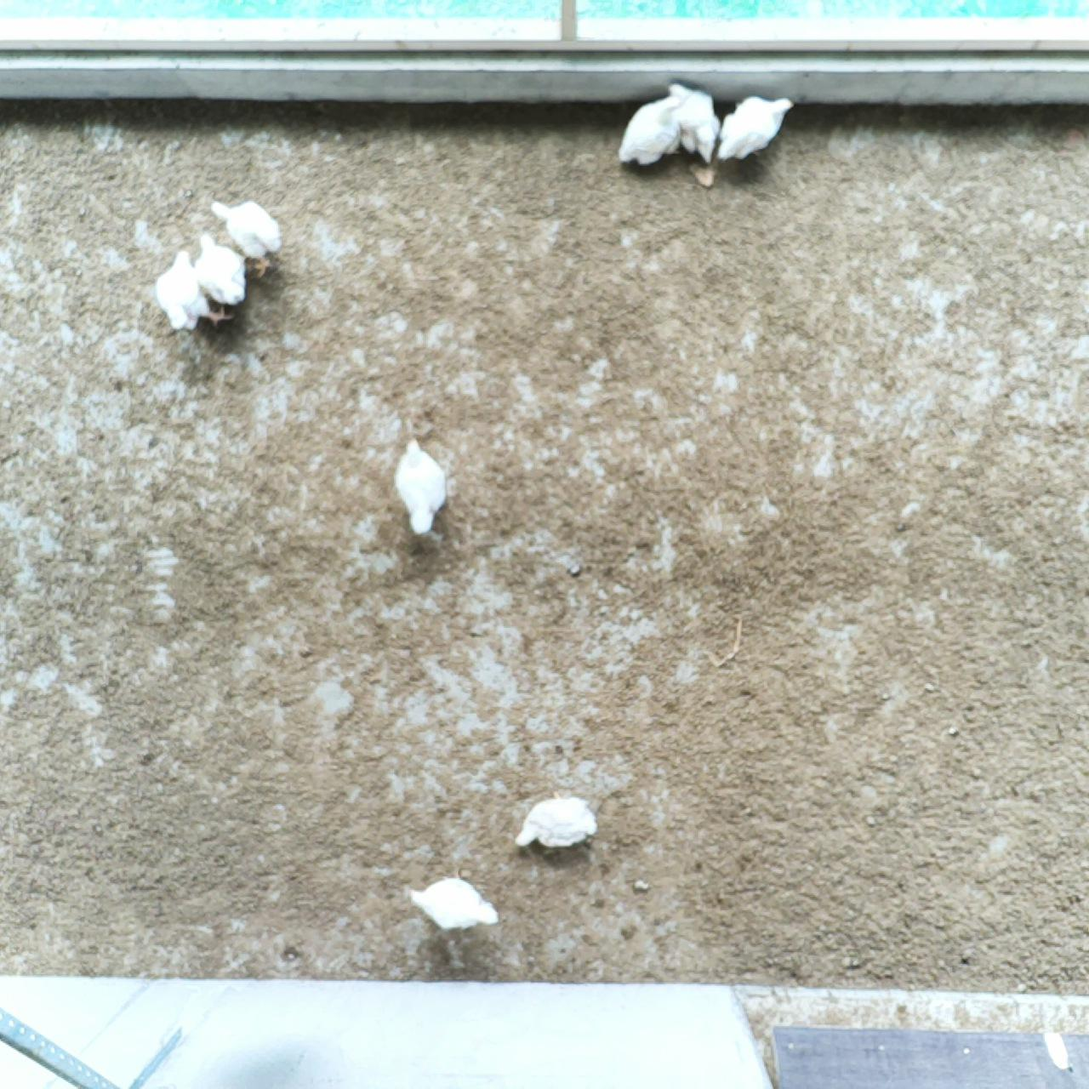chicken: (151, 247, 231, 334), (391, 431, 452, 537), (206, 197, 282, 280), (401, 873, 500, 935), (714, 93, 794, 163), (616, 97, 689, 171), (512, 794, 600, 854), (186, 229, 250, 311), (667, 77, 724, 166)
